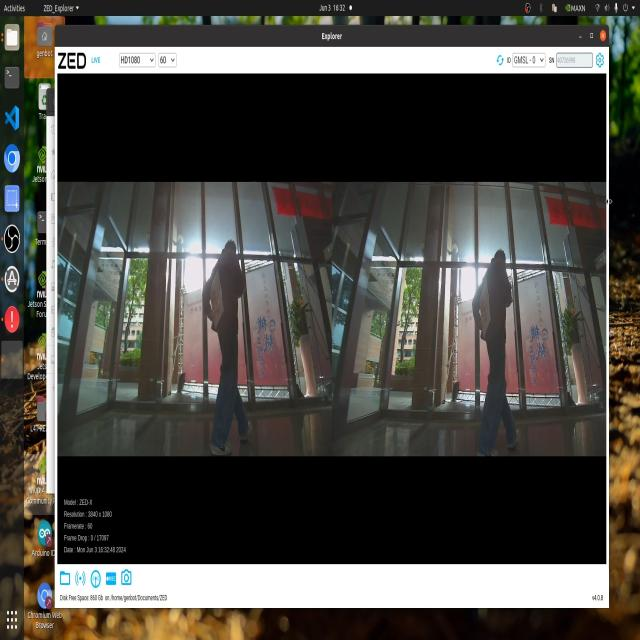red: (476, 282, 490, 331), (210, 269, 221, 324)
